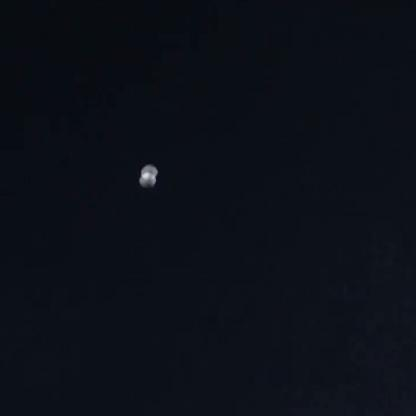ball: (136, 157, 164, 192)
